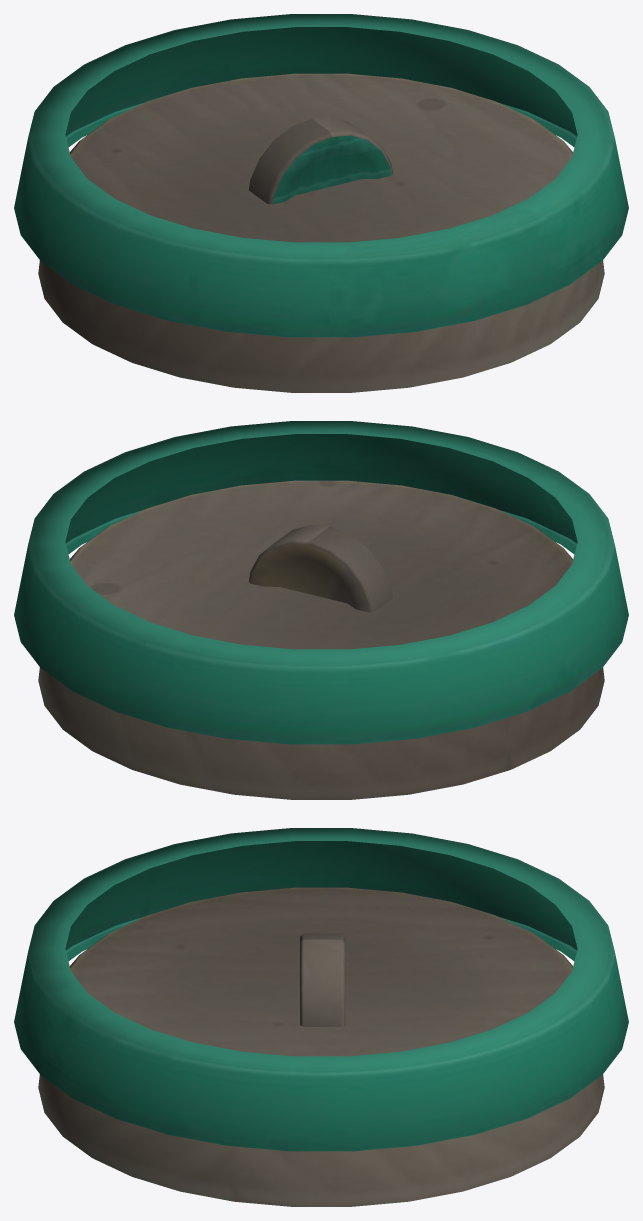
Rendered from cenarion.glb.
3 renders of one model, top to bottom at view 1: azimuth 30°, elevation 25°; view 2: azimuth 150°, elevation 25°; view 3: azimuth 270°, elevation 25°, orthographic.
Parts seen in each view (by area): view 1: Pedestal_Cenarion; view 2: Pedestal_Cenarion; view 3: Pedestal_Cenarion.
Boxes of the visible parts, box(x1,y1,x2,y2) form: Pedestal_Cenarion: box(14, 14, 628, 392); Pedestal_Cenarion: box(14, 421, 628, 799); Pedestal_Cenarion: box(14, 828, 628, 1206).
Bounding box in the file's own units: 2.83 × 0.7566 × 2.85.
1 material, 1 textured.
